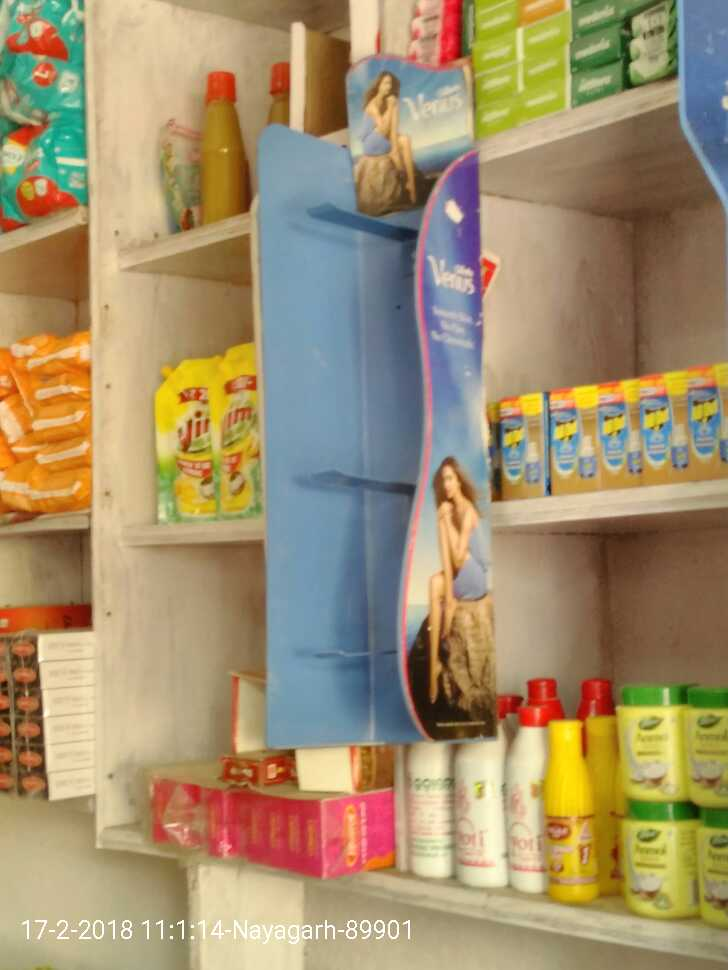reject: (188, 212, 636, 464)
